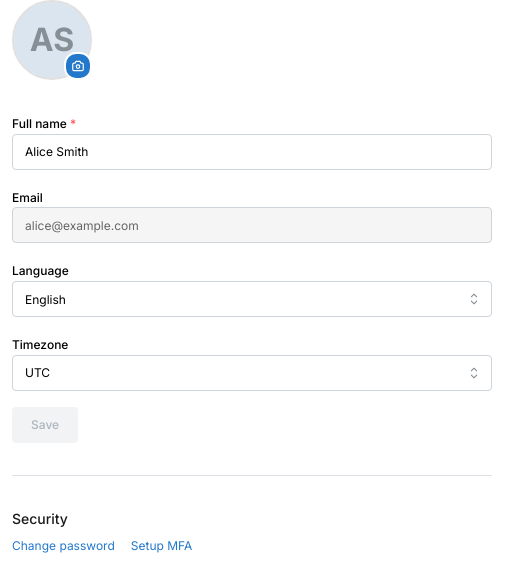
Scenario: ProfileForm › shows validation error when name is blurred empty
This screenshot has width=509, height=584.
Clear the field showing "Alice Smith" at x=252, y=152, box [12,134,492,170]
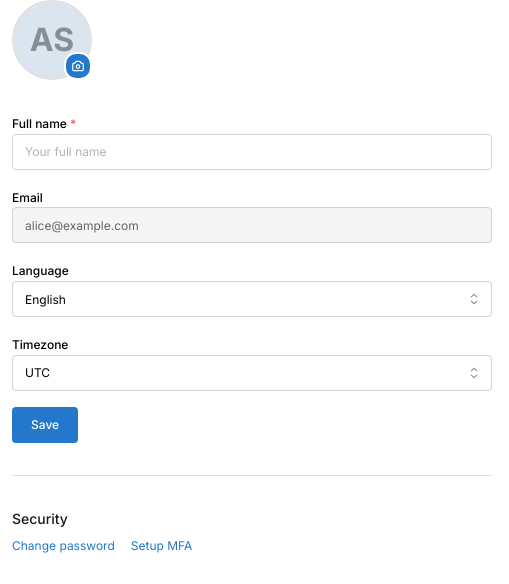
Leave the field showing "Alice Smith", box [12,134,492,170]
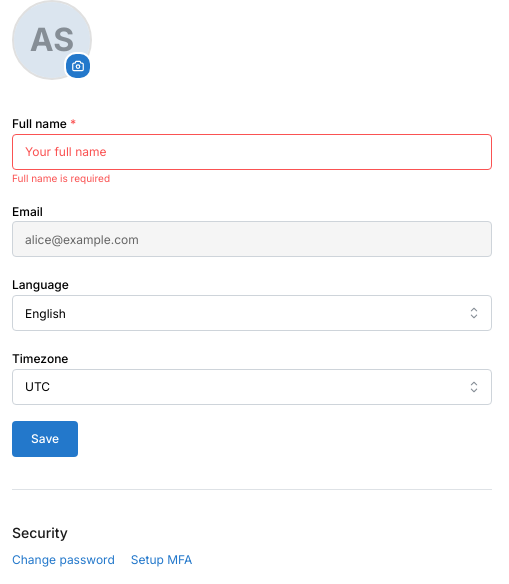
Expected: the text "Full name is required" is shown, [12,172,110,184]
